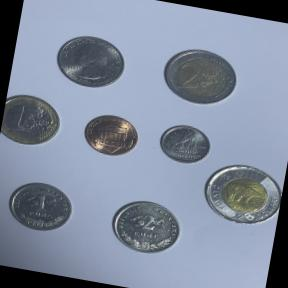coin: (153, 38, 245, 115), (197, 156, 286, 232), (102, 190, 189, 262), (48, 27, 132, 96), (0, 89, 67, 153), (76, 108, 144, 162), (154, 118, 216, 170)
